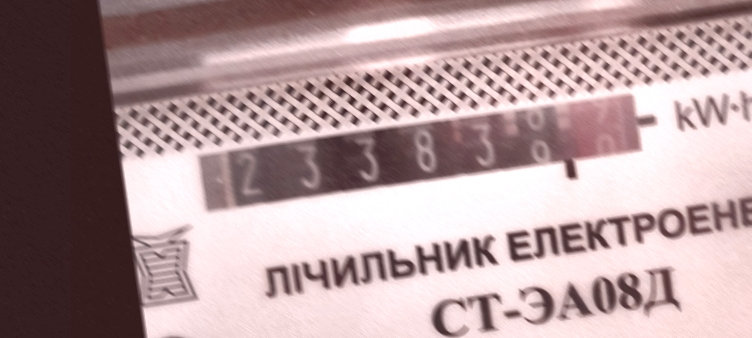0: (593, 130, 618, 158)
2: (234, 149, 264, 199)
3: (291, 139, 326, 192), (349, 132, 384, 185), (468, 119, 498, 168)
8: (408, 126, 441, 175), (522, 104, 549, 134)
9: (587, 94, 613, 126), (528, 136, 552, 167)
screen: (185, 80, 665, 235)
